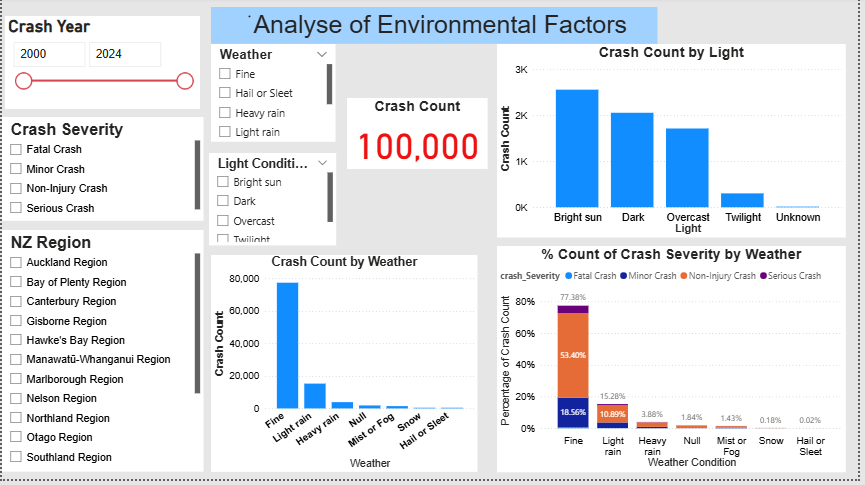

What the dashboard file says about the page in this screenshot:
{"tool":"powerbi","page":{"name":"Crashe Severity & Environmental factors","canvas":[1280,720],"ordinal":2},"visuals":[{"type":"textbox","box":[312.4,15.1,666.9,55.4],"z":0},{"type":"slicer","title":"Crash Year","fields":{"Values":["new_cas1.crash_Year"]},"box":[5,28.6,290.6,137.7],"z":1000},{"type":"slicer","fields":{"Values":["new_cas1.crash_Severity"]},"box":[0,179.7,300.7,154.5],"z":2000},{"type":"slicer","fields":{"Values":["new_cas1.NZ Region"]},"box":[0,347.7,300.7,361.2],"z":3000},{"type":"slicer","fields":{"Values":["new_cas1.weather_A"]},"box":[312.4,70.6,186.5,146.1],"z":4000},{"type":"slicer","fields":{"Values":["new_cas1.light"]},"box":[309.1,233.5,189.8,137.7],"z":5000},{"type":"clusteredColumnChart","title":"Crash Count by Weather","fields":{"Category":["new_cas1.weather_A"],"Y":["CountNonNull(new_cas1.OBJECTID)"]},"box":[312.4,384.7,398.1,324.2],"z":6000},{"type":"columnChart","title":"% Count of Crash Severity by Weather","fields":{"Category":["new_cas1.weather_A"],"Y":["CountNonNull(new_cas1.crash_Severity)"],"Series":["new_cas1.crash_Severity"]},"box":[739.1,371.2,520.7,337.6],"z":7000},{"type":"clusteredColumnChart","title":"Crash Count by Light","fields":{"Category":["new_cas1.light"],"Y":["CountNonNull(new_cas1.OBJECTID)"]},"box":[739.1,70.6,520.7,288.9],"z":8000},{"type":"card","title":"Crash Count","fields":{"Values":["CountNonNull(new_cas1.OBJECTID)"]},"box":[515.7,151.2,210,105.8],"z":9000}]}

Visuals, with their boxes in screenshot pixels (x1, y1, x2, y2), scaled from the page's 1280x720 canvas onto the 865x485 screenshot:
textbox: box(211, 10, 662, 47)
"Crash Year" slicer: box(3, 19, 200, 112)
slicer - new_cas1.crash_Severity: box(0, 121, 203, 225)
slicer - new_cas1.NZ Region: box(0, 234, 203, 478)
slicer - new_cas1.weather_A: box(211, 48, 337, 146)
slicer - new_cas1.light: box(209, 157, 337, 250)
"Crash Count by Weather" clusteredColumnChart: box(211, 259, 480, 478)
"% Count of Crash Severity by Weather" columnChart: box(499, 250, 851, 477)
"Crash Count by Light" clusteredColumnChart: box(499, 48, 851, 242)
"Crash Count" card: box(349, 102, 490, 173)
